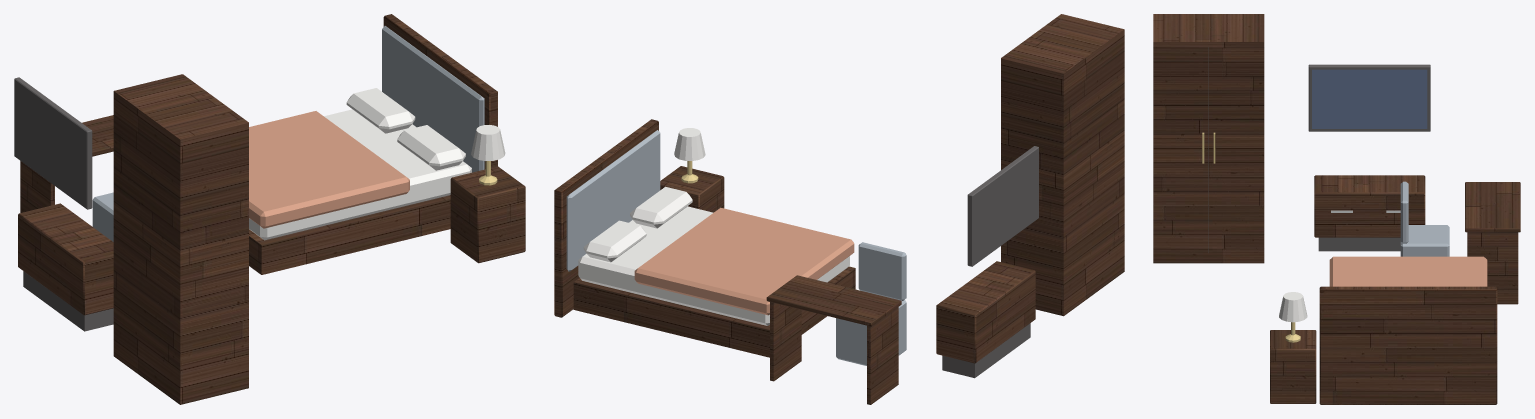
Rendered from room_back_r.glb.
3 renders of one model, left to right at view 1: azimuth 30°, elevation 25°; view 2: azimuth 150°, elevation 25°; view 3: azimuth 270°, elevation 25°, orthographic. The views are drawn at different scales.
Parts seen in each view (by area): view 1: room_back_r_dkwood, room_back_r_fabric2, room_back_r_linen, room_back_r_dark, room_back_r_fabric; view 2: room_back_r_dkwood, room_back_r_fabric2, room_back_r_fabric, room_back_r_linen, room_back_r_dark; view 3: room_back_r_dkwood, room_back_r_sign, room_back_r_fabric2, room_back_r_dark, room_back_r_fabric, room_back_r_linen, room_back_r_gold.
Boxes of the visible parts, x1=… form: room_back_r_dkwood: x1=18, y1=14, x2=525, y2=404; room_back_r_fabric2: x1=249, y1=111, x2=409, y2=228; room_back_r_linen: x1=249, y1=88, x2=505, y2=240; room_back_r_dark: x1=14, y1=77, x2=113, y2=331; room_back_r_fabric: x1=92, y1=26, x2=484, y2=241; room_back_r_dkwood: x1=554, y1=14, x2=1124, y2=404; room_back_r_fabric2: x1=634, y1=207, x2=854, y2=315; room_back_r_fabric: x1=566, y1=130, x2=906, y2=365; room_back_r_linen: x1=578, y1=128, x2=849, y2=325; room_back_r_dark: x1=942, y1=146, x2=1038, y2=378; room_back_r_dkwood: x1=1153, y1=14, x2=1520, y2=404; room_back_r_sign: x1=1312, y1=69, x2=1427, y2=128; room_back_r_fabric2: x1=1329, y1=256, x2=1487, y2=286; room_back_r_dark: x1=1208, y1=47, x2=1430, y2=252; room_back_r_fabric: x1=1400, y1=181, x2=1449, y2=256; room_back_r_linen: x1=1279, y1=292, x2=1307, y2=322; room_back_r_gold: x1=1202, y1=132, x2=1300, y2=342.
Size of the model in its own units: 3.63 by 2.2 by 3.31.
Materials: 8 (1 with a texture image).
